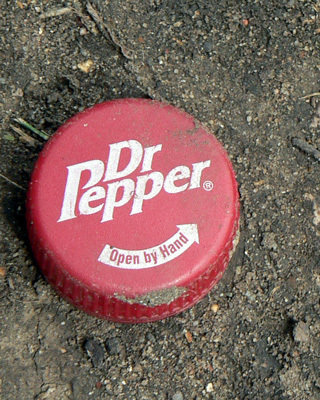litter: (24, 97, 241, 323)
